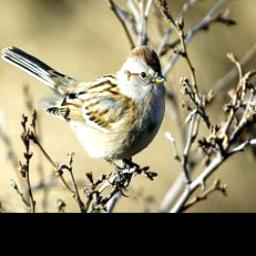Sparrow: (1, 42, 166, 197)
